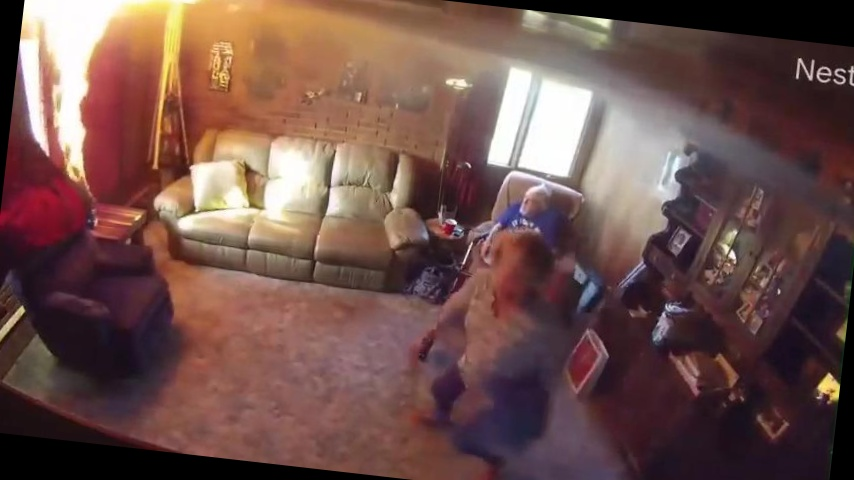fire: (3, 0, 247, 215)
